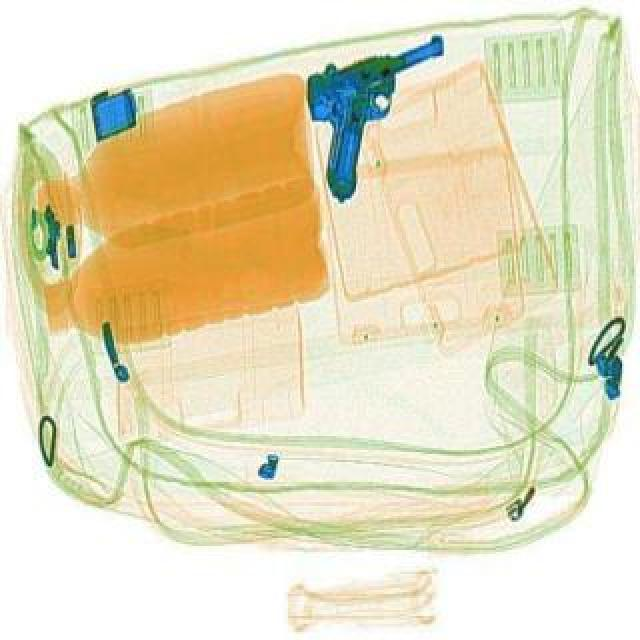gun: (298, 30, 474, 202)
